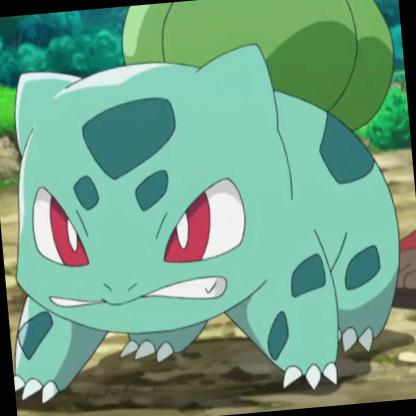Bisasam: (7, 0, 415, 399)
